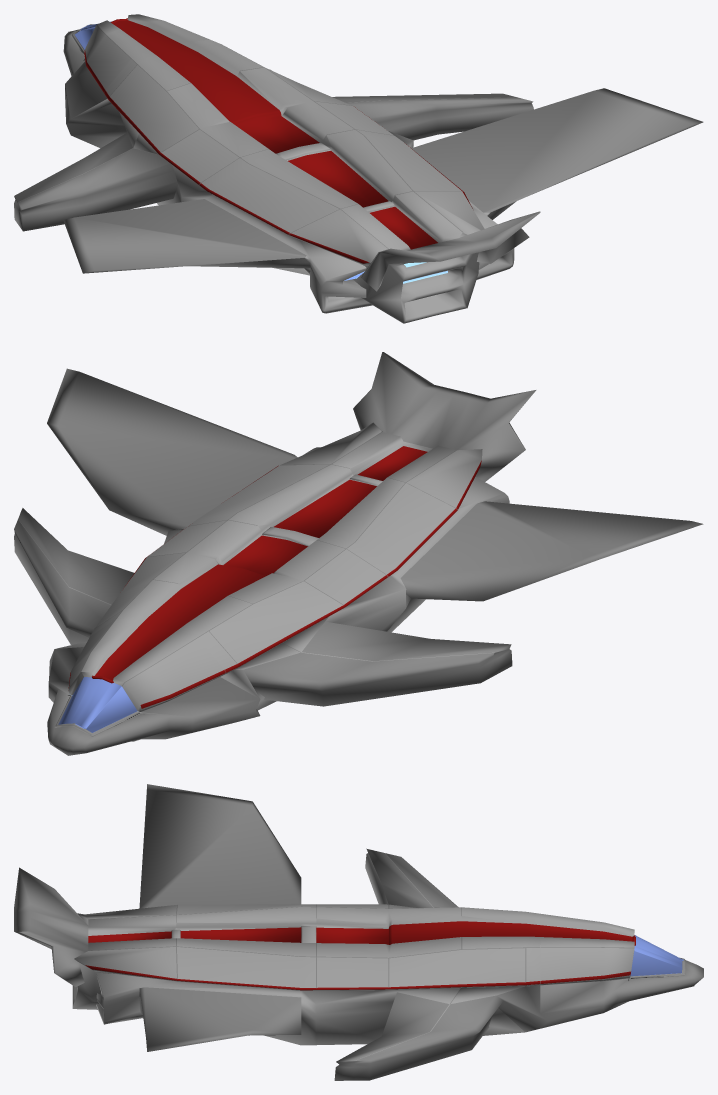
Rendered from corvette_mk1.glb.
3 renders of one model, top to bottom at view 1: azimuth 30°, elevation 25°; view 2: azimuth 150°, elevation 25°; view 3: azimuth 270°, elevation 25°, orthographic. The views are drawn at different scales.
Parts seen in each view (by area): view 1: CorvetteMk1; view 2: CorvetteMk1; view 3: CorvetteMk1.
Boxes of the visible parts, x1,y1,x2,y2 form: CorvetteMk1: (14, 14, 703, 323); CorvetteMk1: (14, 352, 703, 755); CorvetteMk1: (14, 784, 703, 1080).
Size of the model in its own units: 30.87 by 6.23 by 33.59.
5 materials, 1 textured.
